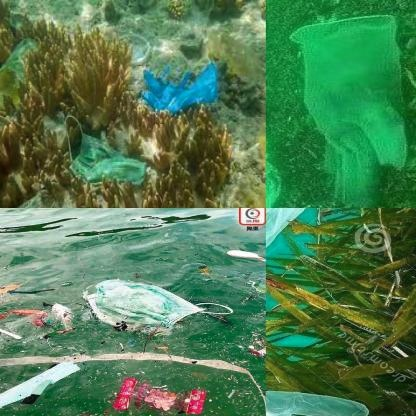Mask: (78, 278, 235, 338), (55, 100, 151, 188)
glove: (286, 13, 414, 207), (266, 312, 386, 416), (266, 208, 363, 279), (136, 59, 228, 117), (114, 23, 191, 74)
